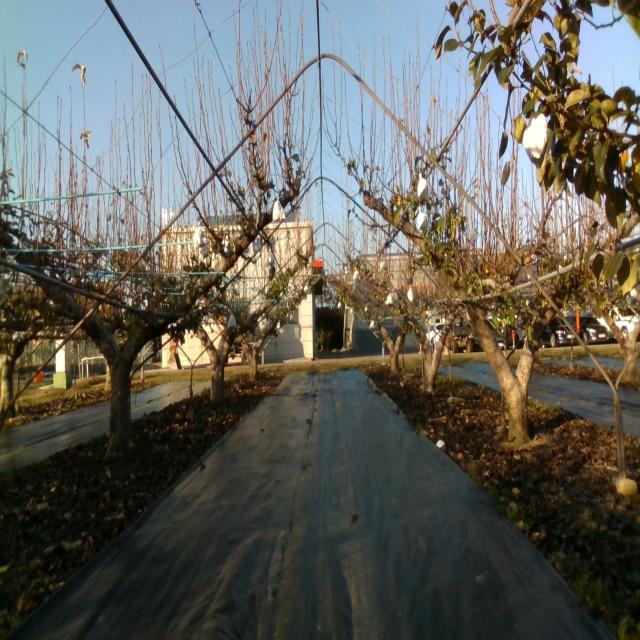pearbags: (520, 112, 548, 172), (416, 172, 429, 202), (272, 196, 286, 223), (193, 223, 206, 249), (417, 206, 427, 232)
